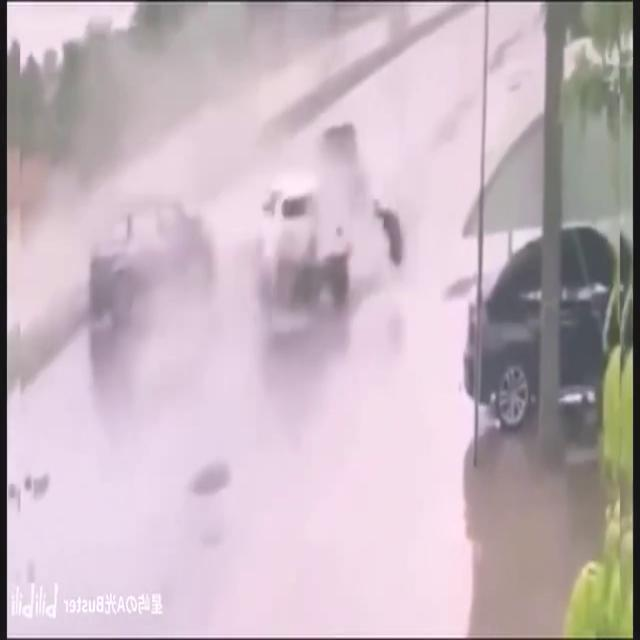accident: (78, 120, 408, 374)
